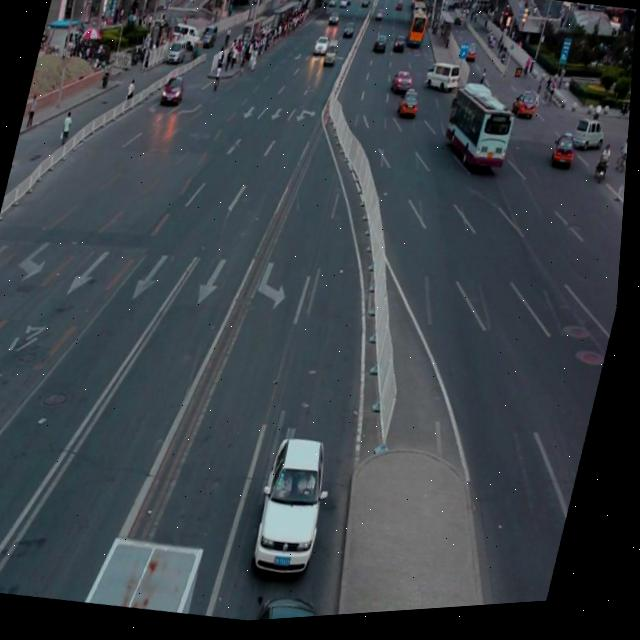bus: (91, 527, 214, 622)
car: (253, 433, 345, 582), (262, 591, 336, 624)
